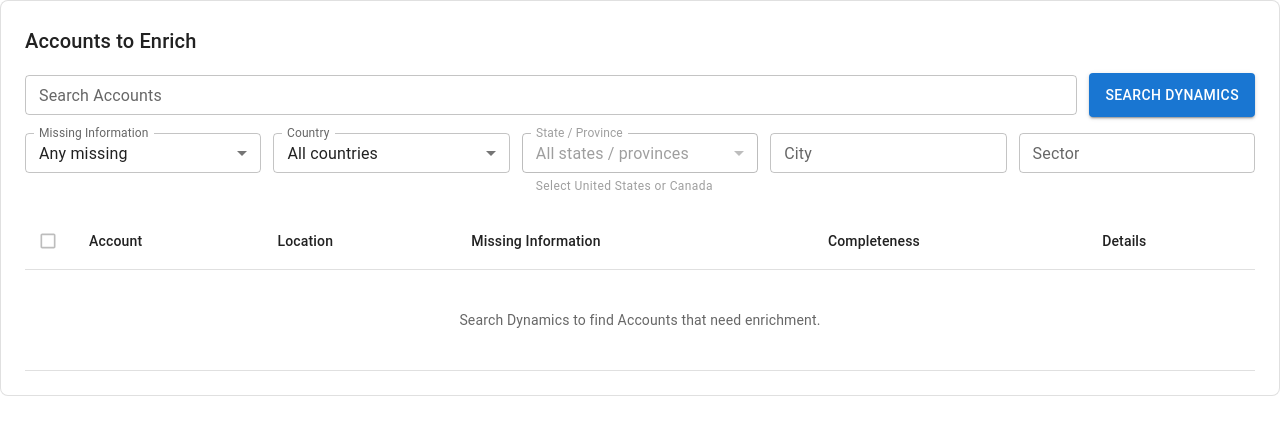
does not use legacy employee/NAICS values to hide missing canonical information
Click the button "Search Dynamics" at point(1172, 95), box top-left (1089, 73), bottom-right (1255, 117)
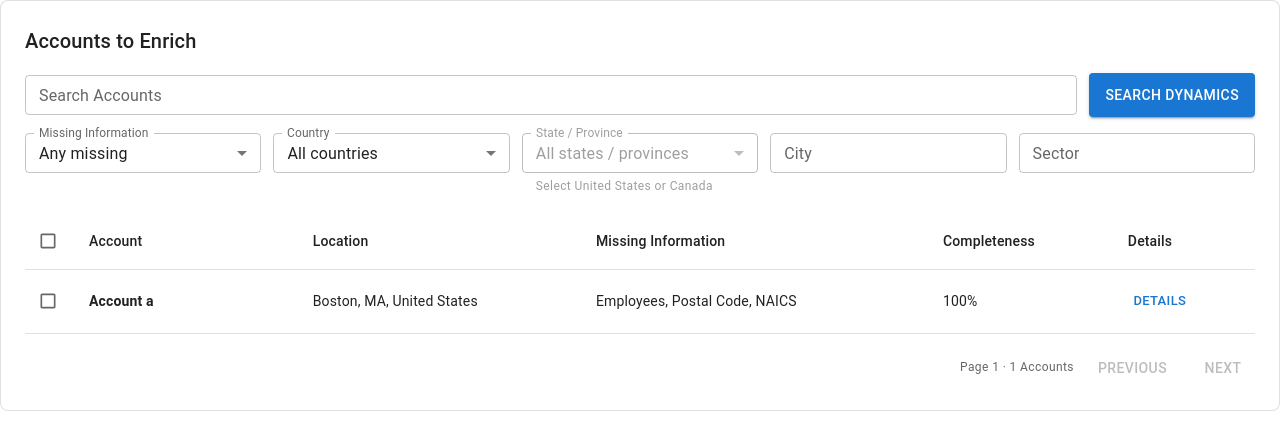
Now the text "Employees, Postal Code, NAICS" is shown, box top-left (580, 269), bottom-right (927, 333)
